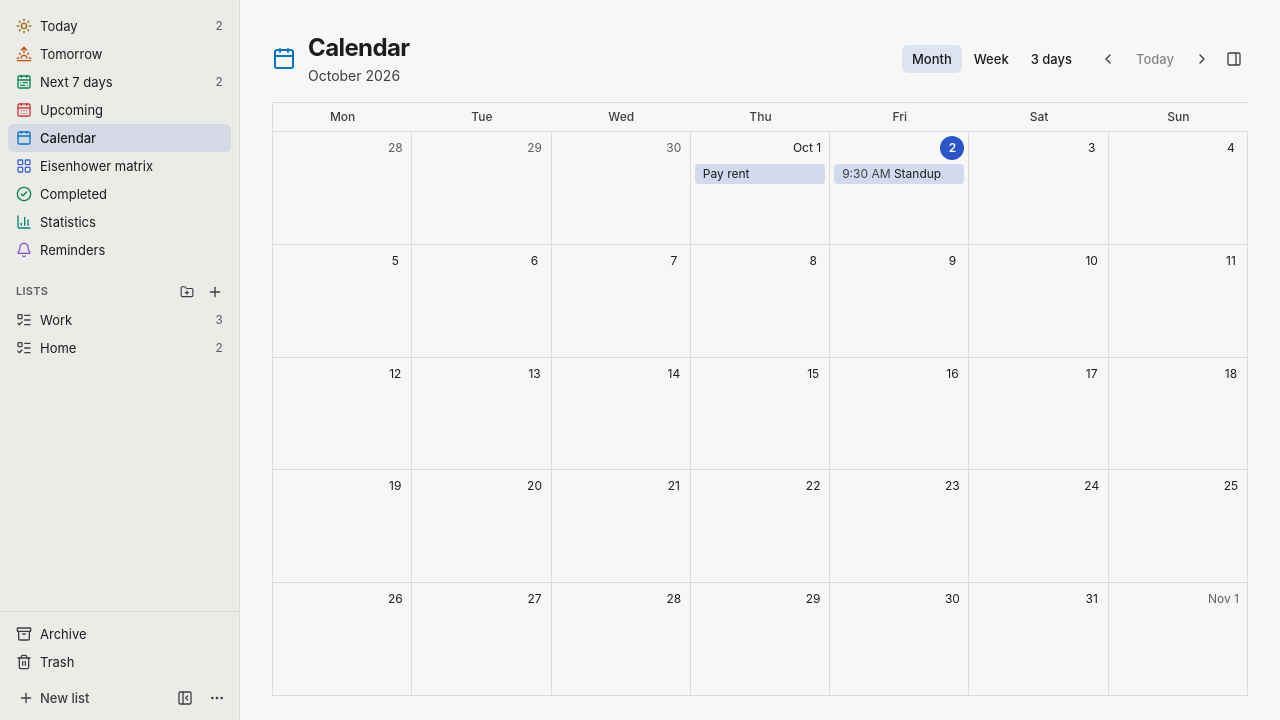
it: Calendar › switches layout and saves it
Click the button "Week": {"x": 991, "y": 59} 964,45 -> 1019,73
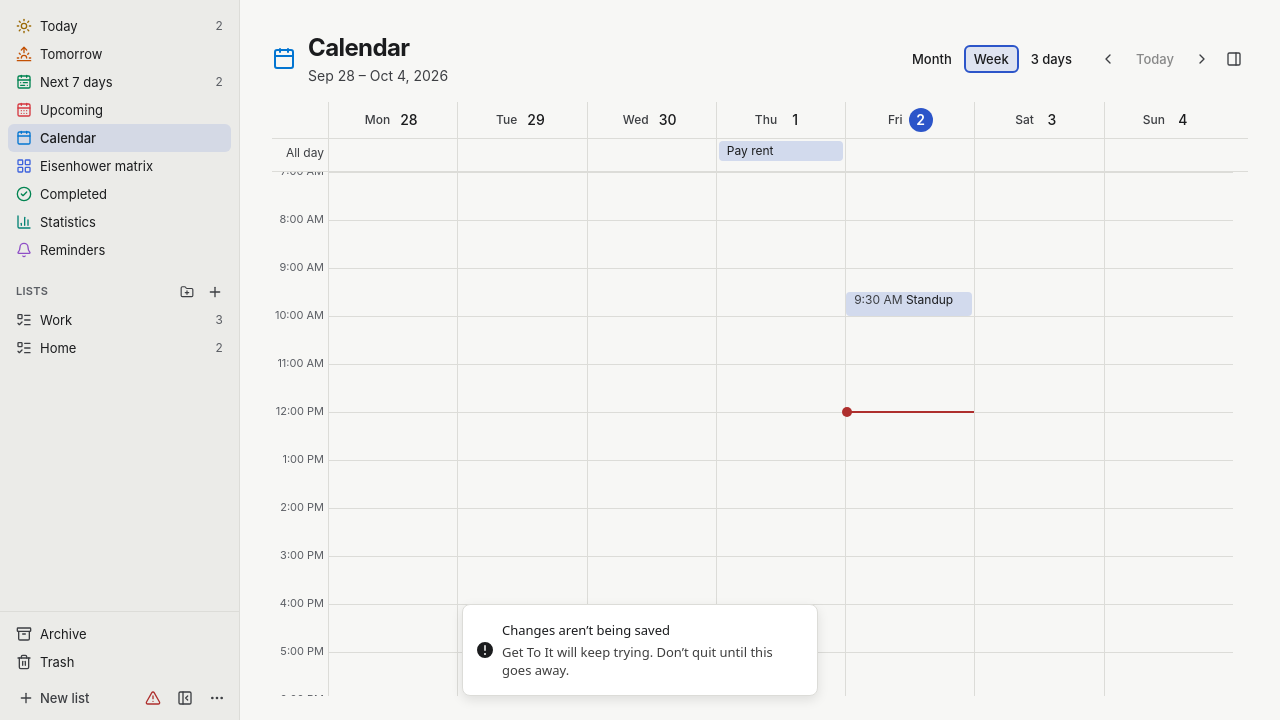
Now the text "Sep 28 – Oct 4, 2026" is shown, box 308,67 -> 448,84
Click the button named "Next": {"x": 1202, "y": 59} 1188,45 -> 1216,73
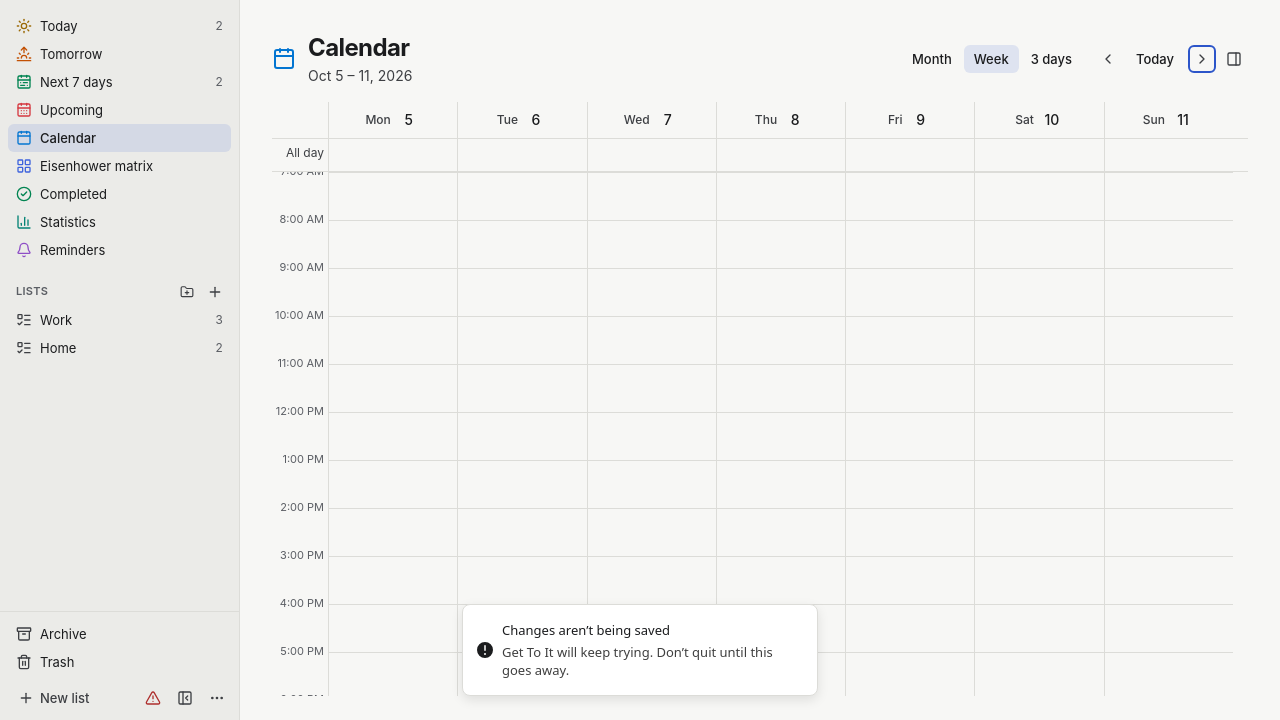
Now the text "Oct 5 – 11, 2026" is shown, box 308,67 -> 412,84
Click the button "3 days": {"x": 1051, "y": 59} 1021,45 -> 1082,73
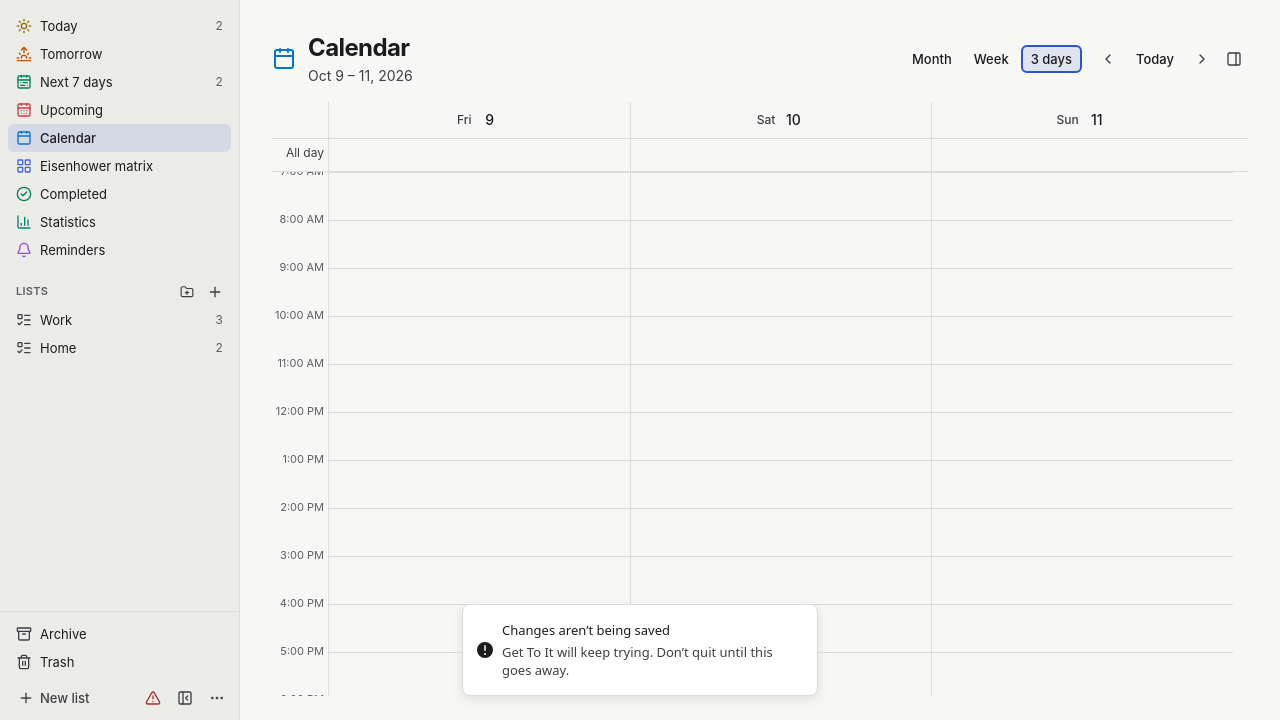
Now the button "3 days" is pressed, box 1021,45 -> 1082,73
Click the button "Month": {"x": 932, "y": 59} 902,45 -> 962,73
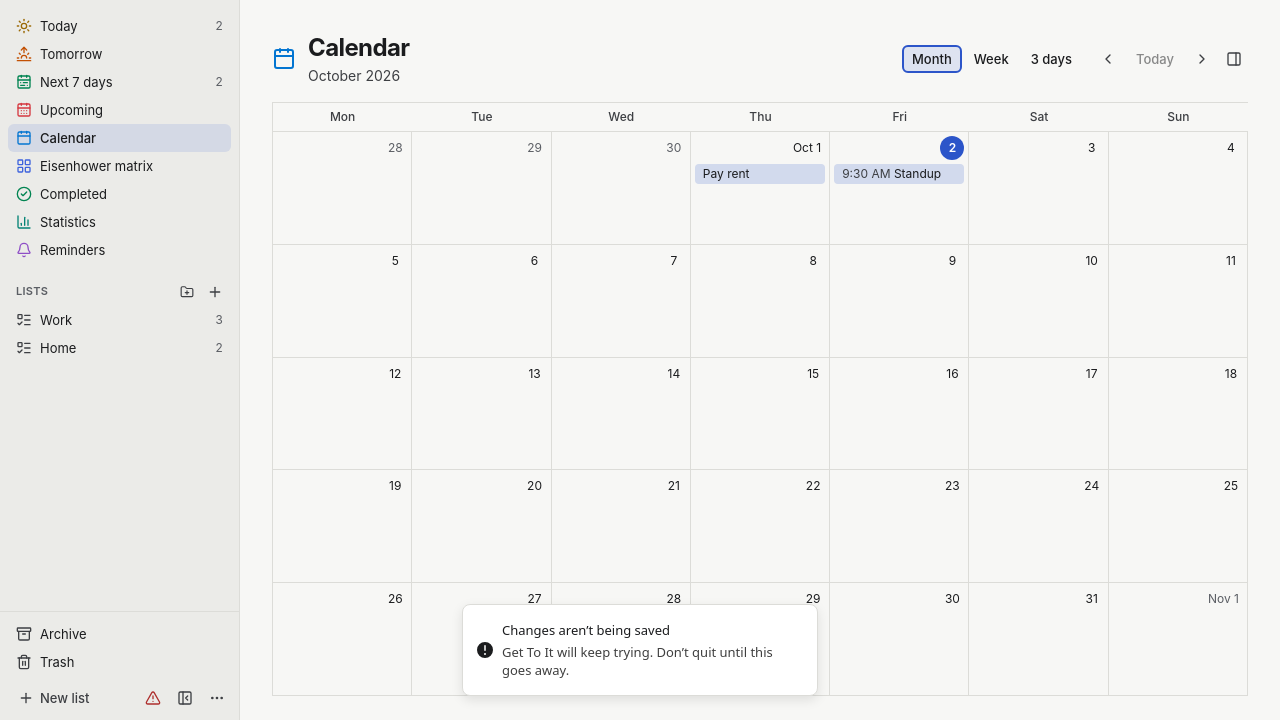
Now the text "October 2026" is shown, box 308,67 -> 400,84
